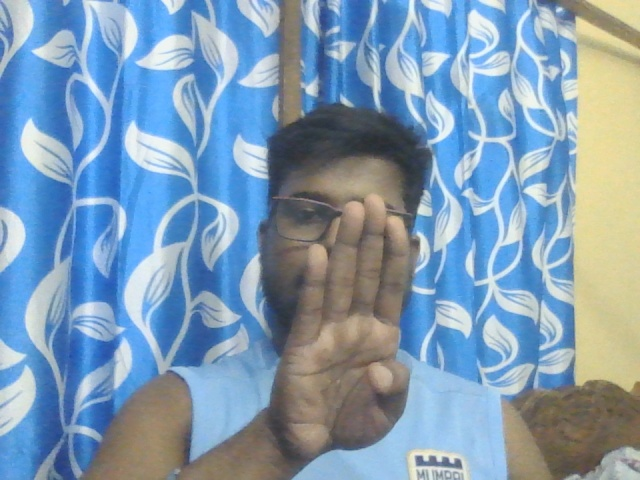B: (278, 194, 411, 456)
